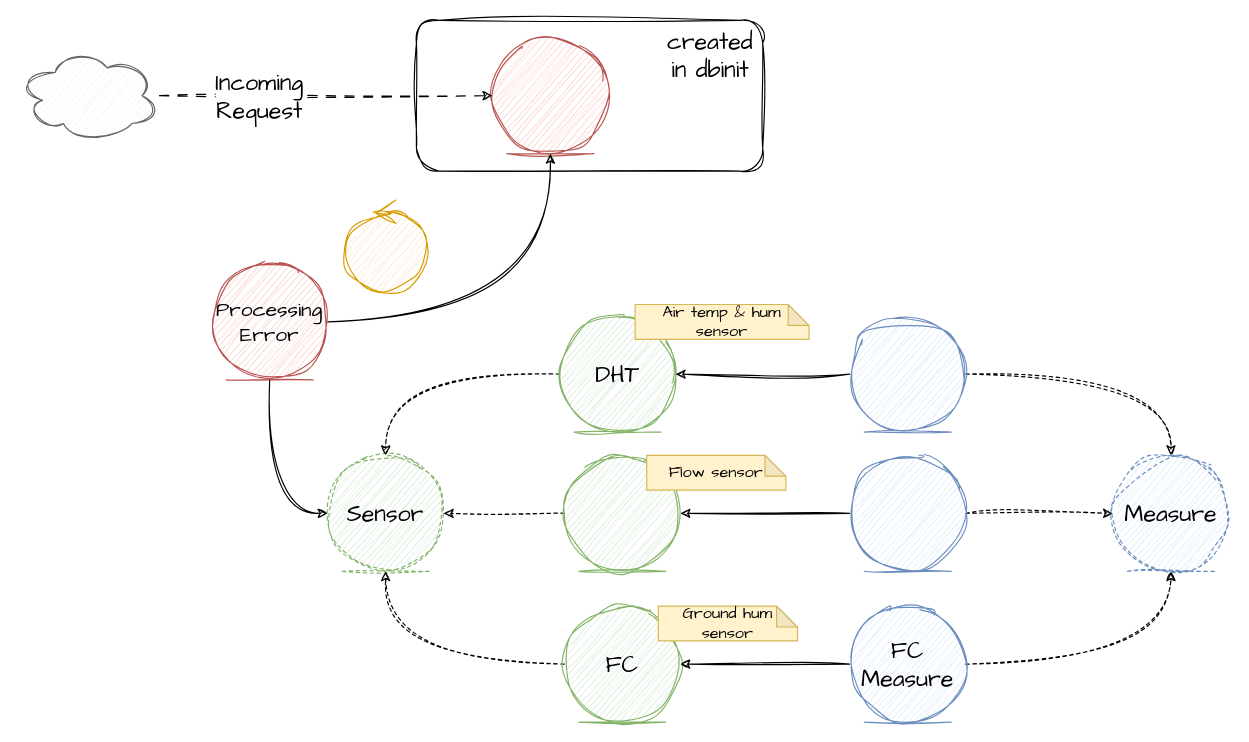
Some shapes in this 1249 by 742 pixel diagram are drawn without their labels. Here are the shapes that lost their labels. From the top down, the centre of each, then its label:
point 549,95: Message
point 385,246: Processor
point 907,373: DHT Measure
point 621,512: YF
point 907,512: YF Measure
